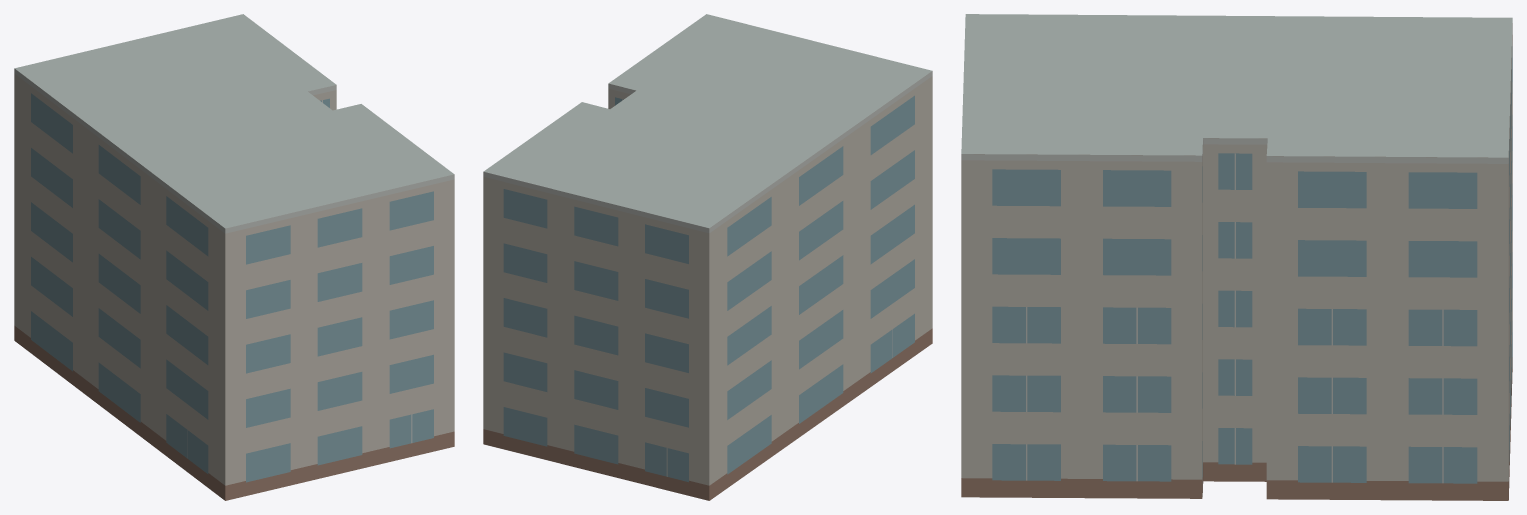
File: survey-upis-32718967.glb
3 renders of one model, left to right at view 1: azimuth 30°, elevation 25°; view 2: azimuth 150°, elevation 25°; view 3: azimuth 270°, elevation 25°, orthographic. The views are drawn at different scales.
Visible parts, largest first — view 1: survey-upis-32718967.tmp; view 2: survey-upis-32718967.tmp; view 3: survey-upis-32718967.tmp.
Part boxes in pixels (left/top/right/bottom): survey-upis-32718967.tmp: left=14, top=14, right=454, bottom=500; survey-upis-32718967.tmp: left=483, top=14, right=932, bottom=500; survey-upis-32718967.tmp: left=961, top=14, right=1512, bottom=500.
Size of the model in its own units: 11.8 by 13.15 by 19.15.
